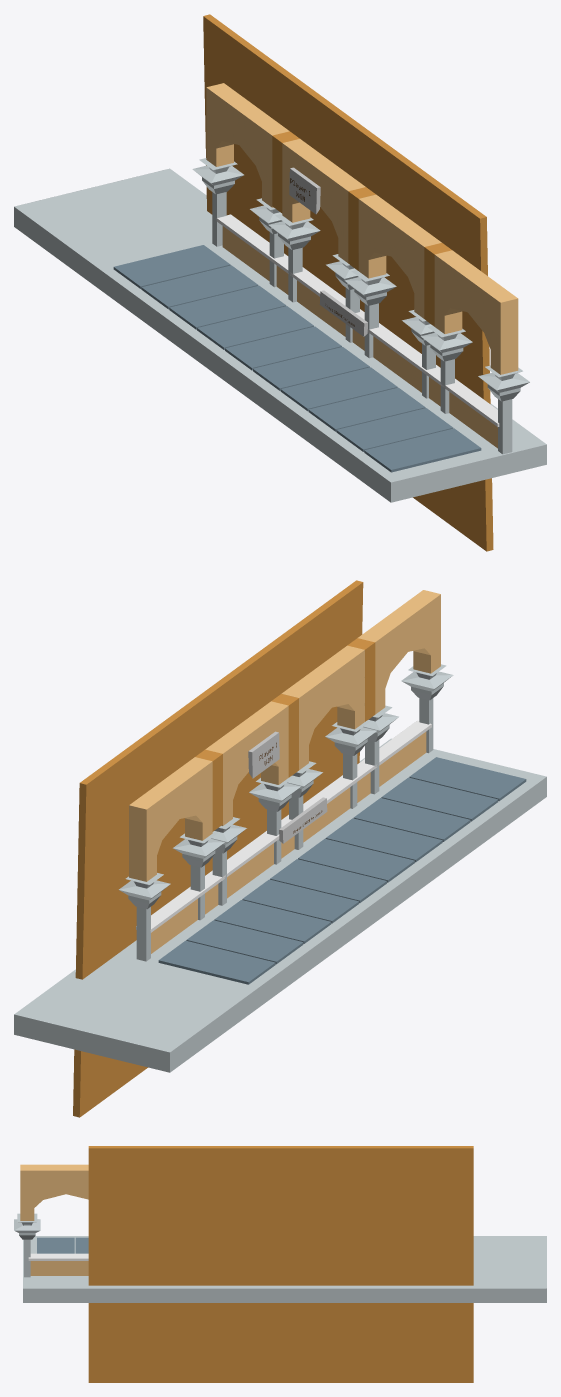
Rendered from WIN1SCENE.obj.
The picture shows the model from 3 angles, top to bottom: view 1: azimuth 30°, elevation 25°; view 2: azimuth 150°, elevation 25°; view 3: azimuth 270°, elevation 25°; orthographic projection. The views are drawn at different scales.
Visible parts, largest first — view 1: bg, white_plane, white_plane.001; view 2: bg, white_plane, white_plane.001; view 3: bg.
Part boxes in pixels (left/top/right/bottom): bg: left=14, top=14, right=546, bottom=551; white_plane: left=289, top=167, right=320, bottom=214; white_plane.001: left=319, top=290, right=367, bottom=336; bg: left=14, top=580, right=546, bottom=1117; white_plane: left=248, top=731, right=279, bottom=778; white_plane.001: left=279, top=797, right=327, bottom=843; bg: left=14, top=1146, right=546, bottom=1382.
Size of the model in its own units: 0.9759 by 2 by 4.15.
Materials: 8 (8 with a texture image).
